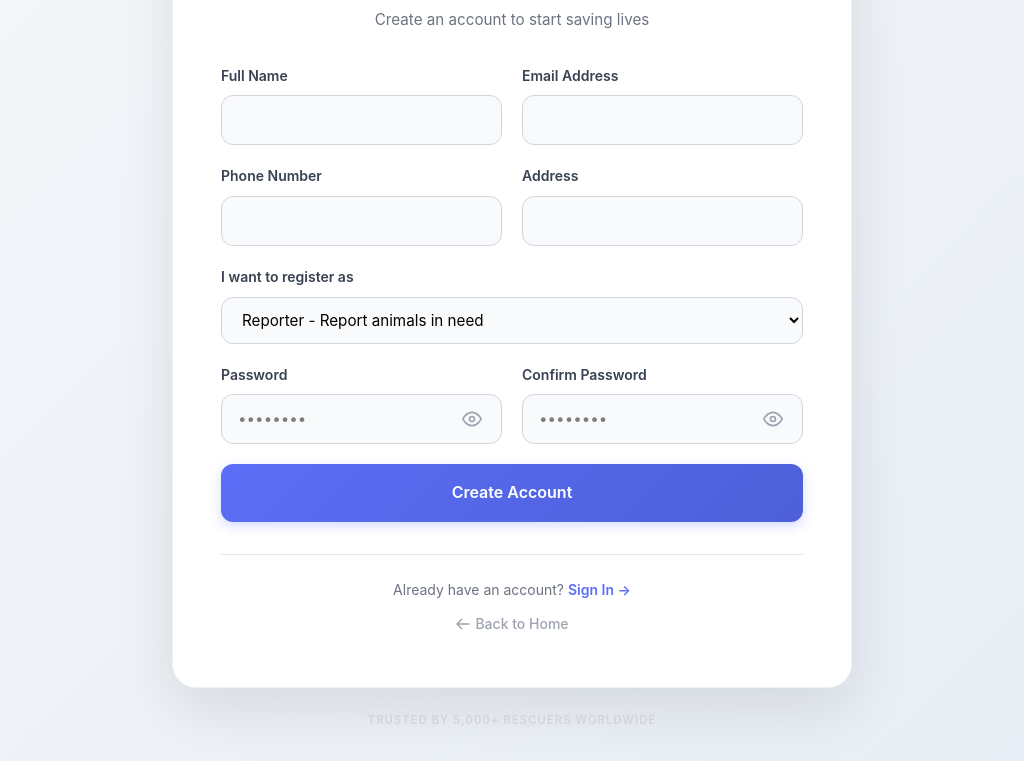
it: Register Component › should display validation errors for empty form submission
(page scrolled)
Click the button "Create Account".
click(512, 493)  # box [221,464,803,522]
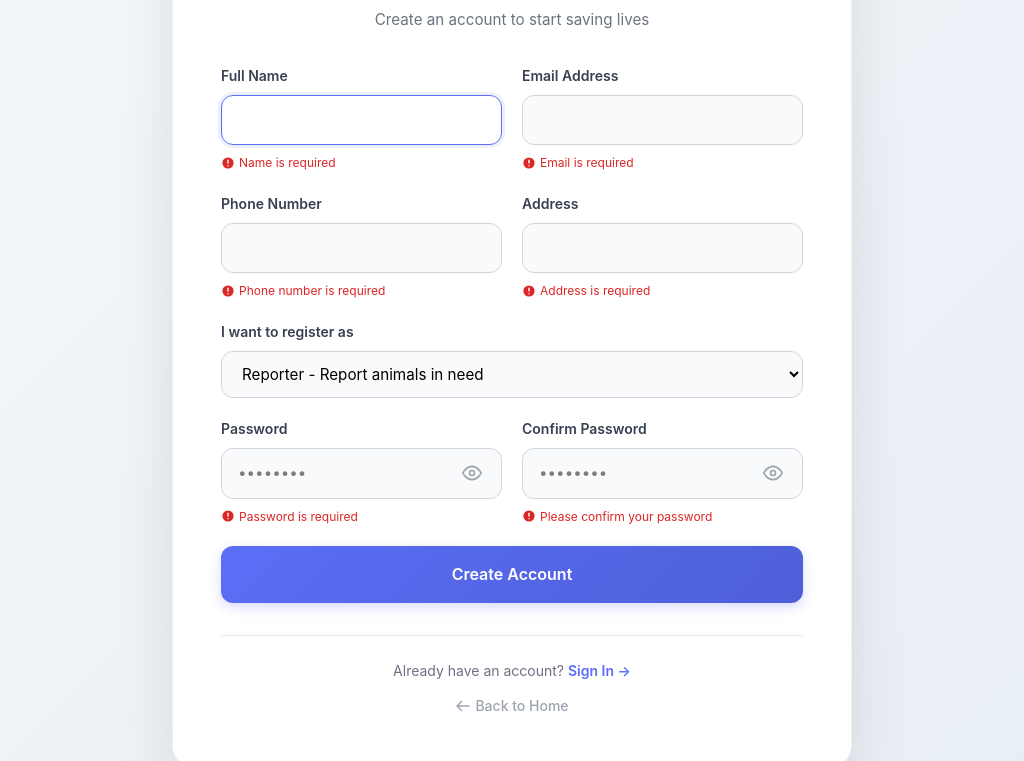
Expected: the text "Name is required" is shown, [221,156,336,170]
